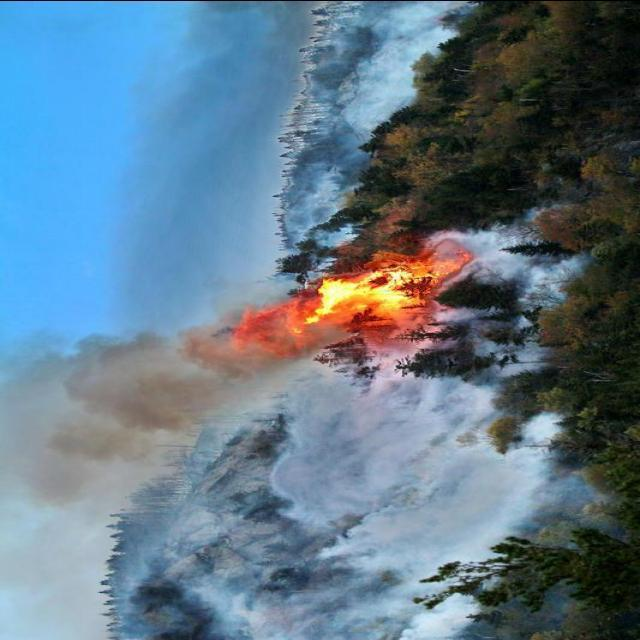Fire: (300, 264, 414, 314)
